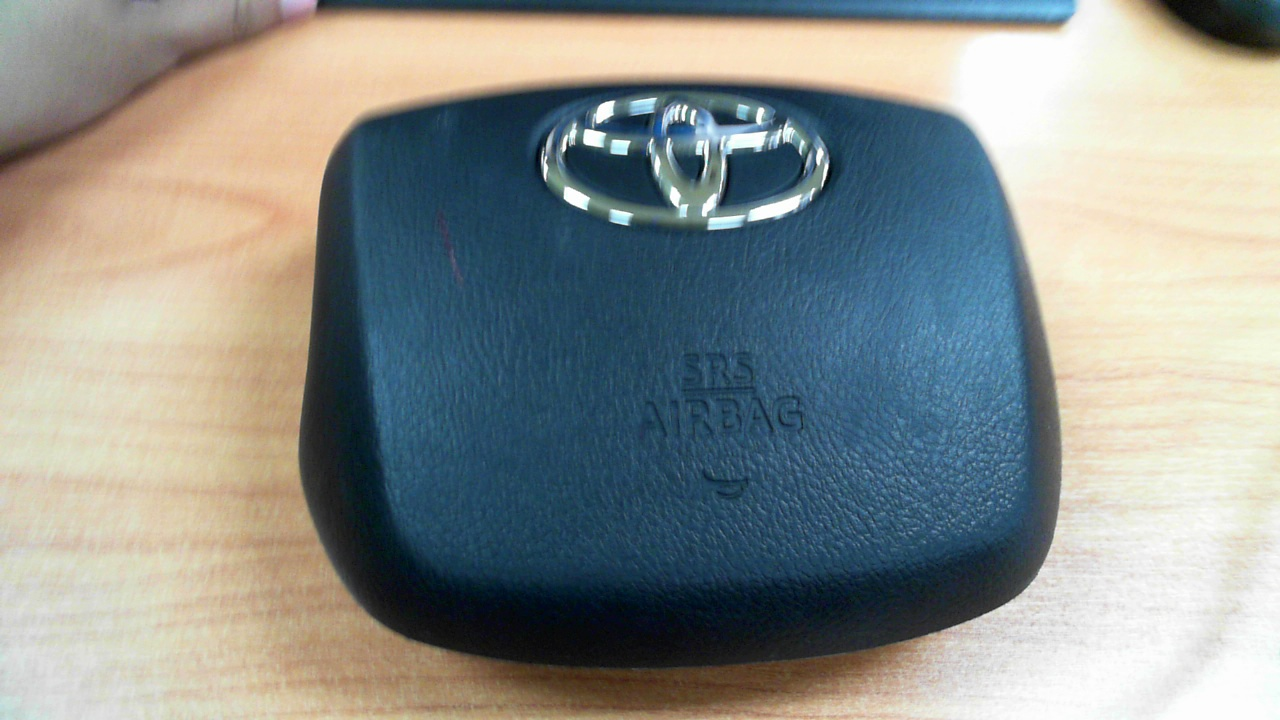Airbag: (297, 76, 1063, 673)
Toyota: (540, 83, 830, 231)
